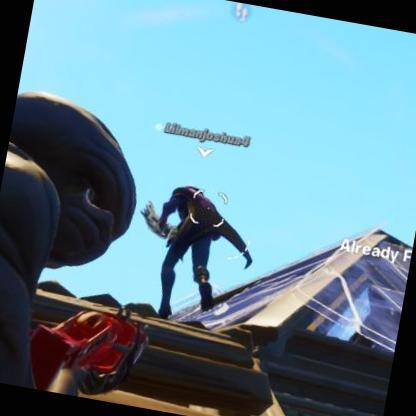person: (122, 176, 264, 328)
